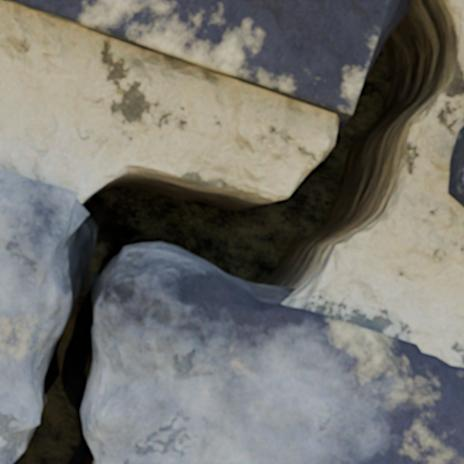brick: (4, 0, 392, 117), (449, 127, 463, 205)
broken_brick: (89, 246, 463, 463), (0, 167, 82, 463)
crack: (2, 0, 463, 463)
